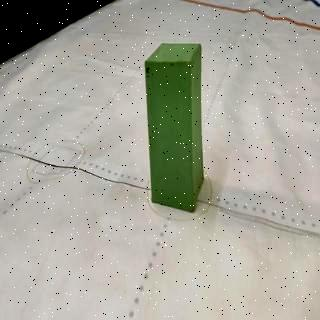greenbox: (143, 41, 204, 212)
